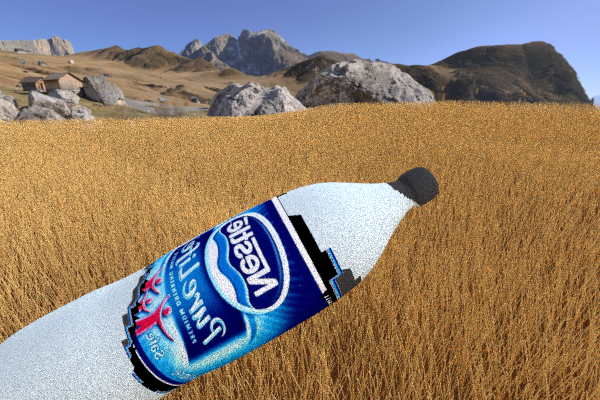Plastic Bottle: (0, 166, 438, 400), (519, 124, 595, 169)
